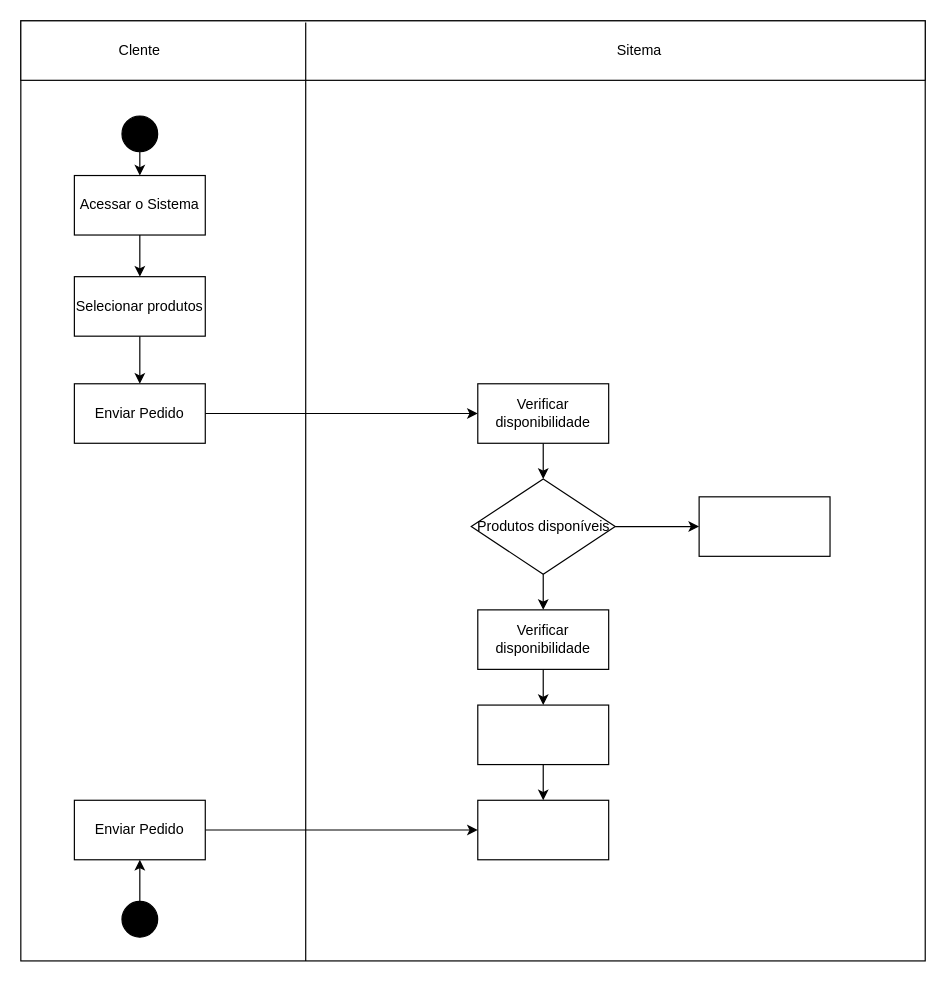
This 946x983 diagram has some shape labels left out. The shapes that lost their labels are listed below. From the top down, each one's centre as x and y in pixels, then its label:
At pixel 764 526: "Exibir mensagem de indispobilidade".
At pixel 543 734: "Registrar pedido".
At pixel 543 829: "Enviar confirmação".
